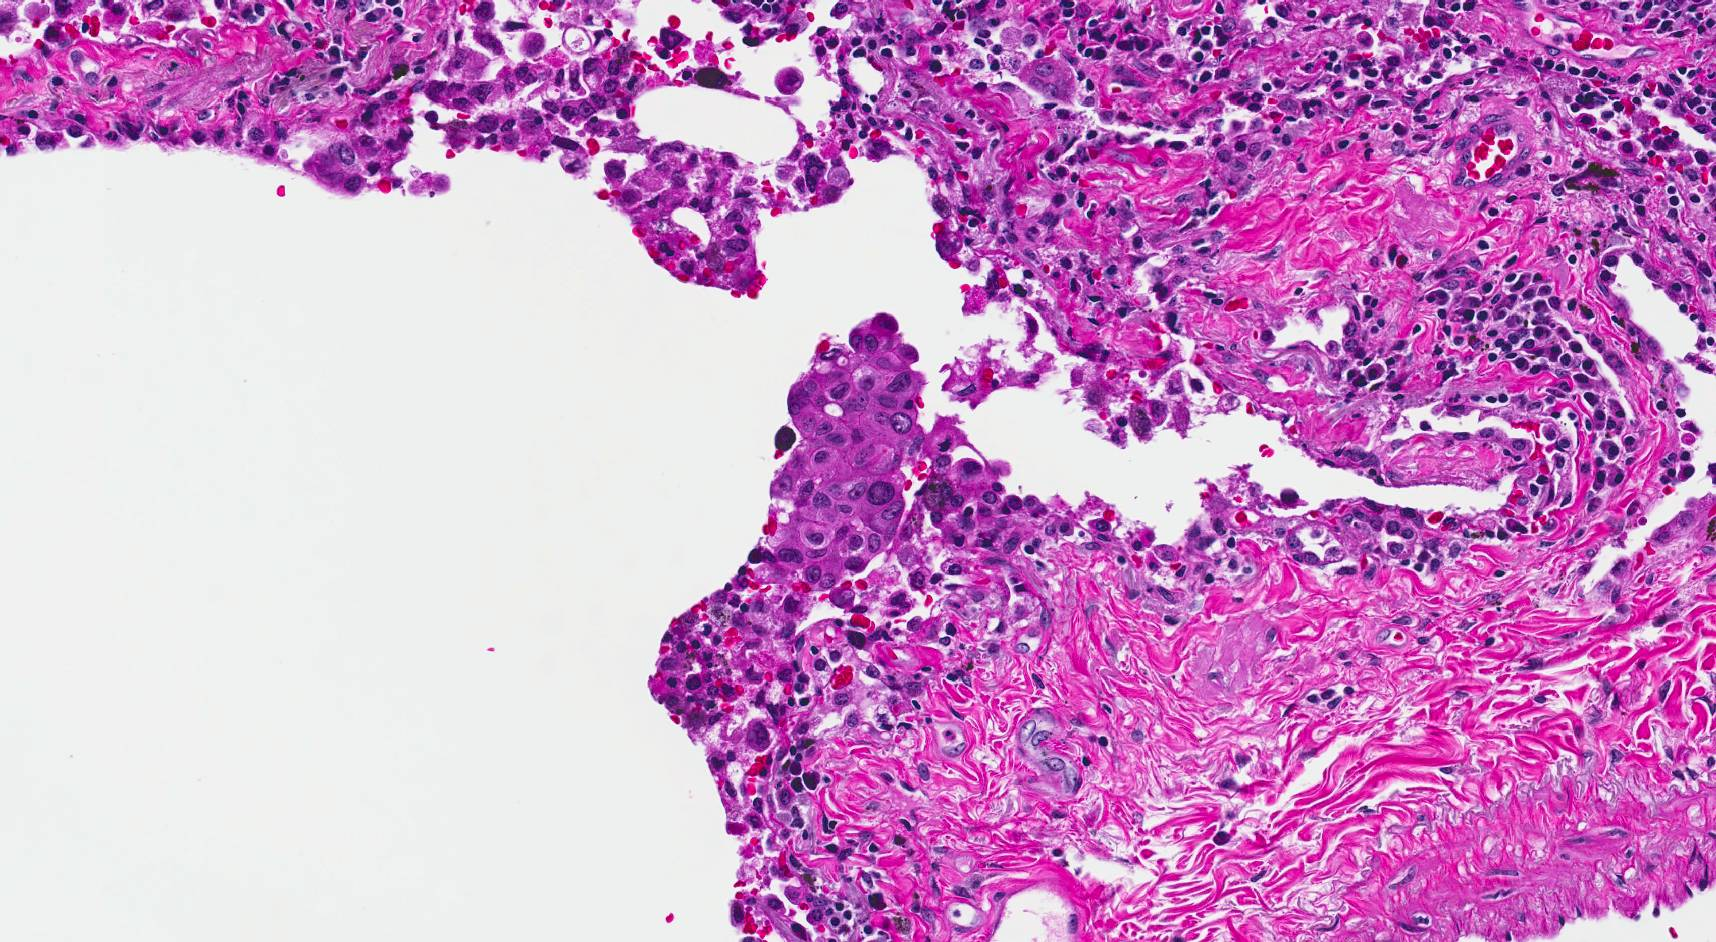stas: (769, 312, 923, 589)
